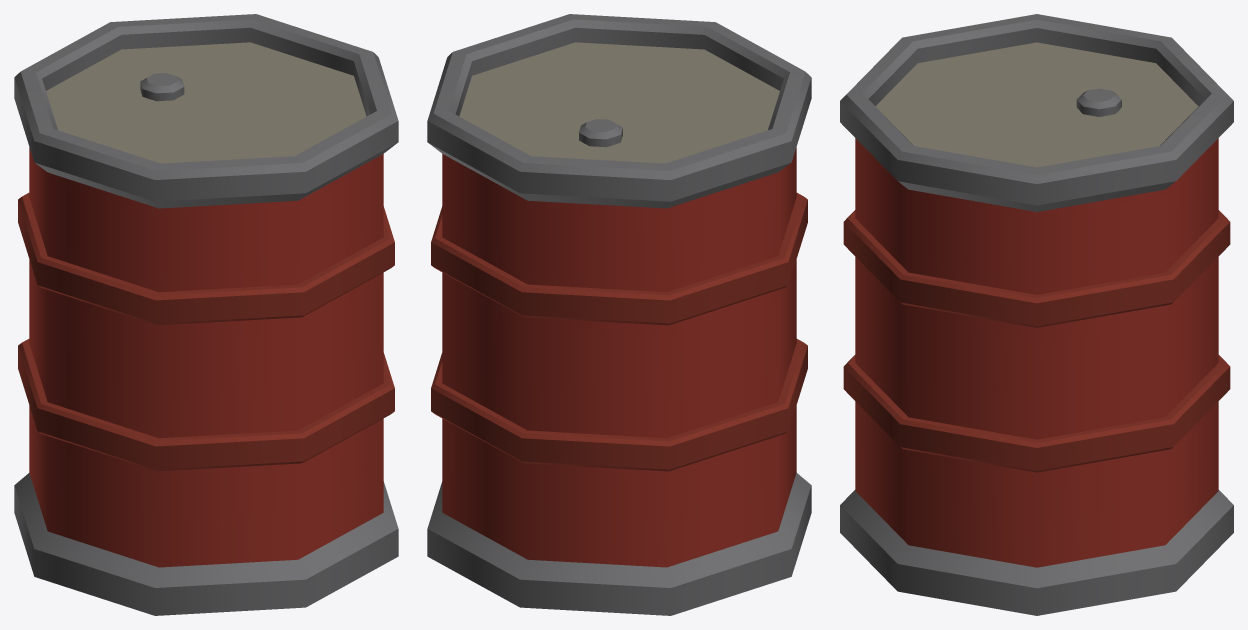
The model's file is Barrel_1_1.fbx.
3 views of the same model, side by side, from view 1: azimuth 30°, elevation 25°; view 2: azimuth 150°, elevation 25°; view 3: azimuth 270°, elevation 25° (orthographic).
Parts seen in each view (by area): view 1: Barrel_1_1; view 2: Barrel_1_1; view 3: Barrel_1_1.
Boxes of the visible parts, x1,y1,x2,y2 form: Barrel_1_1: (14,14,398,615); Barrel_1_1: (427,14,811,615); Barrel_1_1: (840,14,1233,615).
Bounding box in the file's own units: 67.48 × 83 × 67.48.
